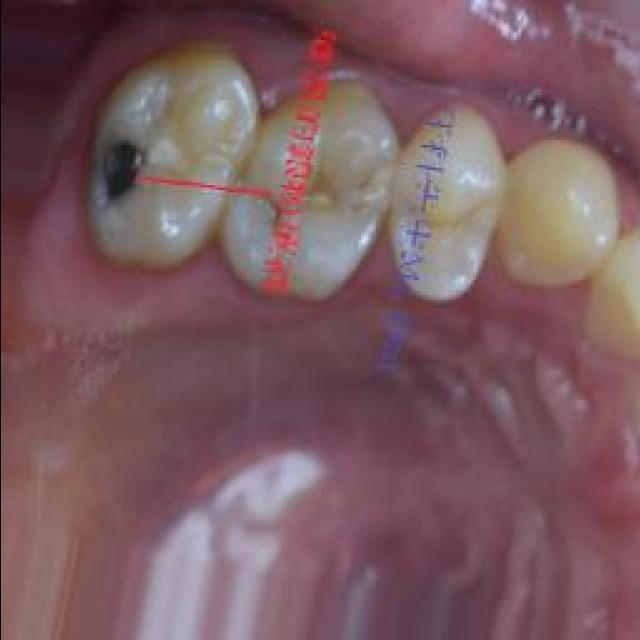caries: (60, 82, 180, 264)
